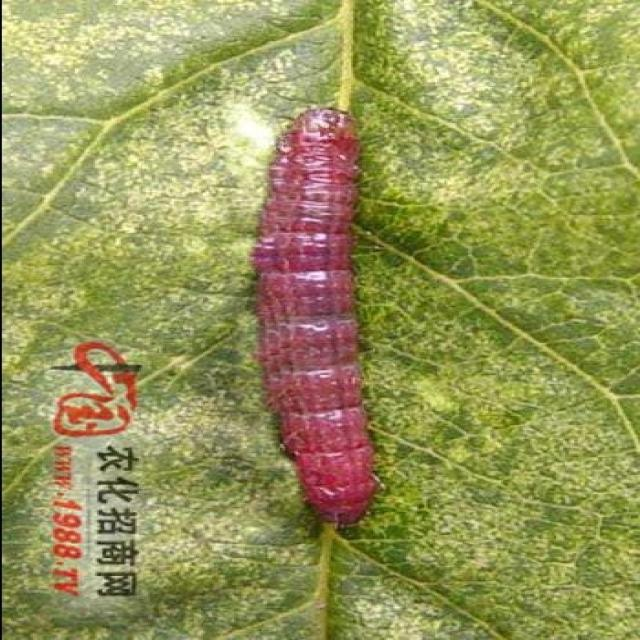peach borer: (252, 109, 386, 536)
